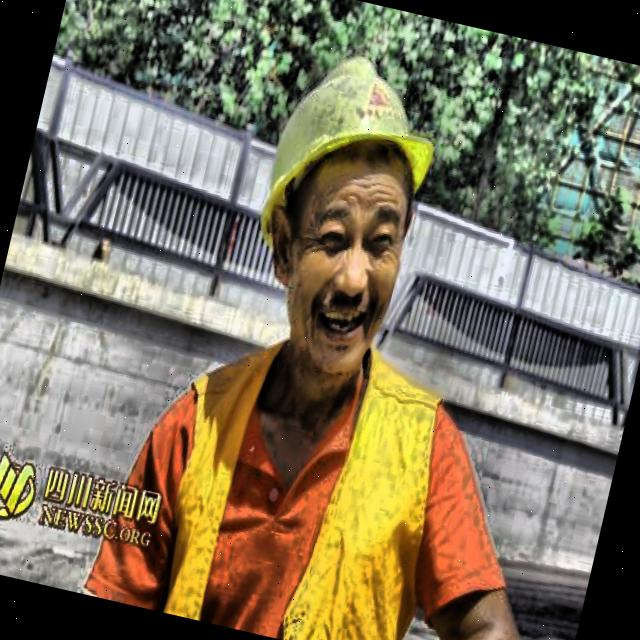helmet: (204, 1, 476, 408)
